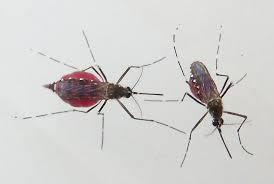insect: (7, 23, 190, 153), (142, 20, 259, 169)
